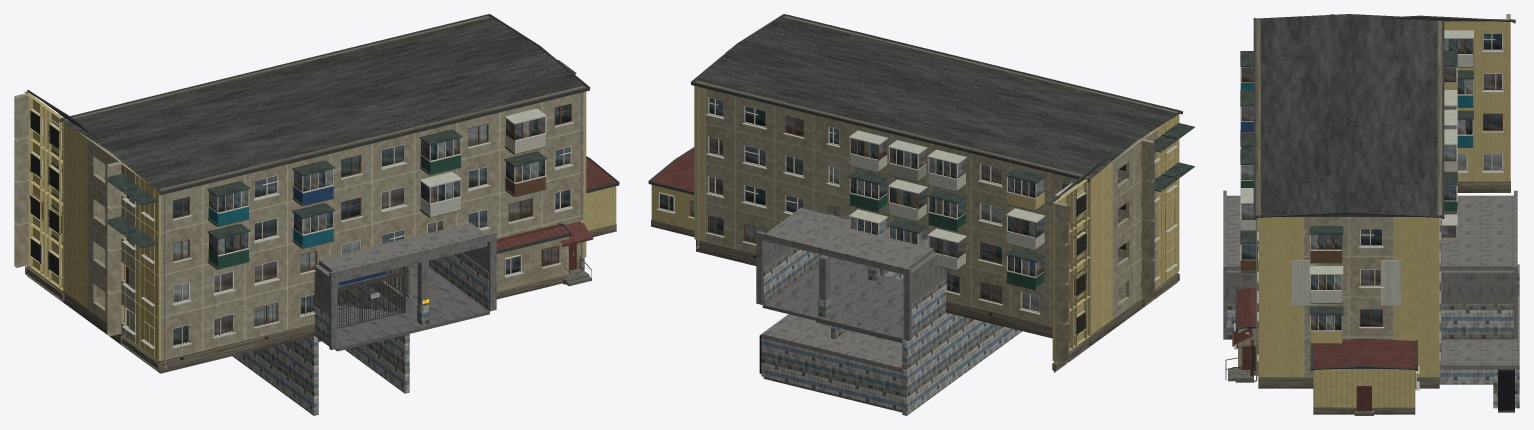
The model's file is res_arch_81.glb.
3 renders of one model, left to right at view 1: azimuth 30°, elevation 25°; view 2: azimuth 150°, elevation 25°; view 3: azimuth 270°, elevation 25°, orthographic. The views are drawn at different scales.
Parts seen in each view (by area): view 1: res_arch_81, gate_R, gate_L; view 2: res_arch_81; view 3: res_arch_81.
Part boxes in pixels (bbox=[...]): res_arch_81: bbox=[14, 14, 619, 415]; gate_R: bbox=[362, 274, 403, 322]; gate_L: bbox=[337, 285, 361, 328]; res_arch_81: bbox=[648, 14, 1194, 415]; res_arch_81: bbox=[1223, 14, 1519, 415].
Bounding box in the file's own units: 34.93 × 18.63 × 18.69.
18 materials, 14 textured.
